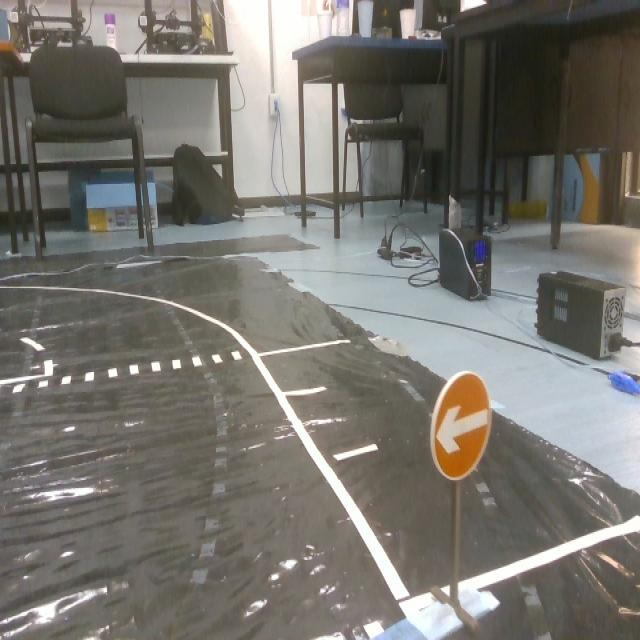forward: (418, 370, 496, 479)
